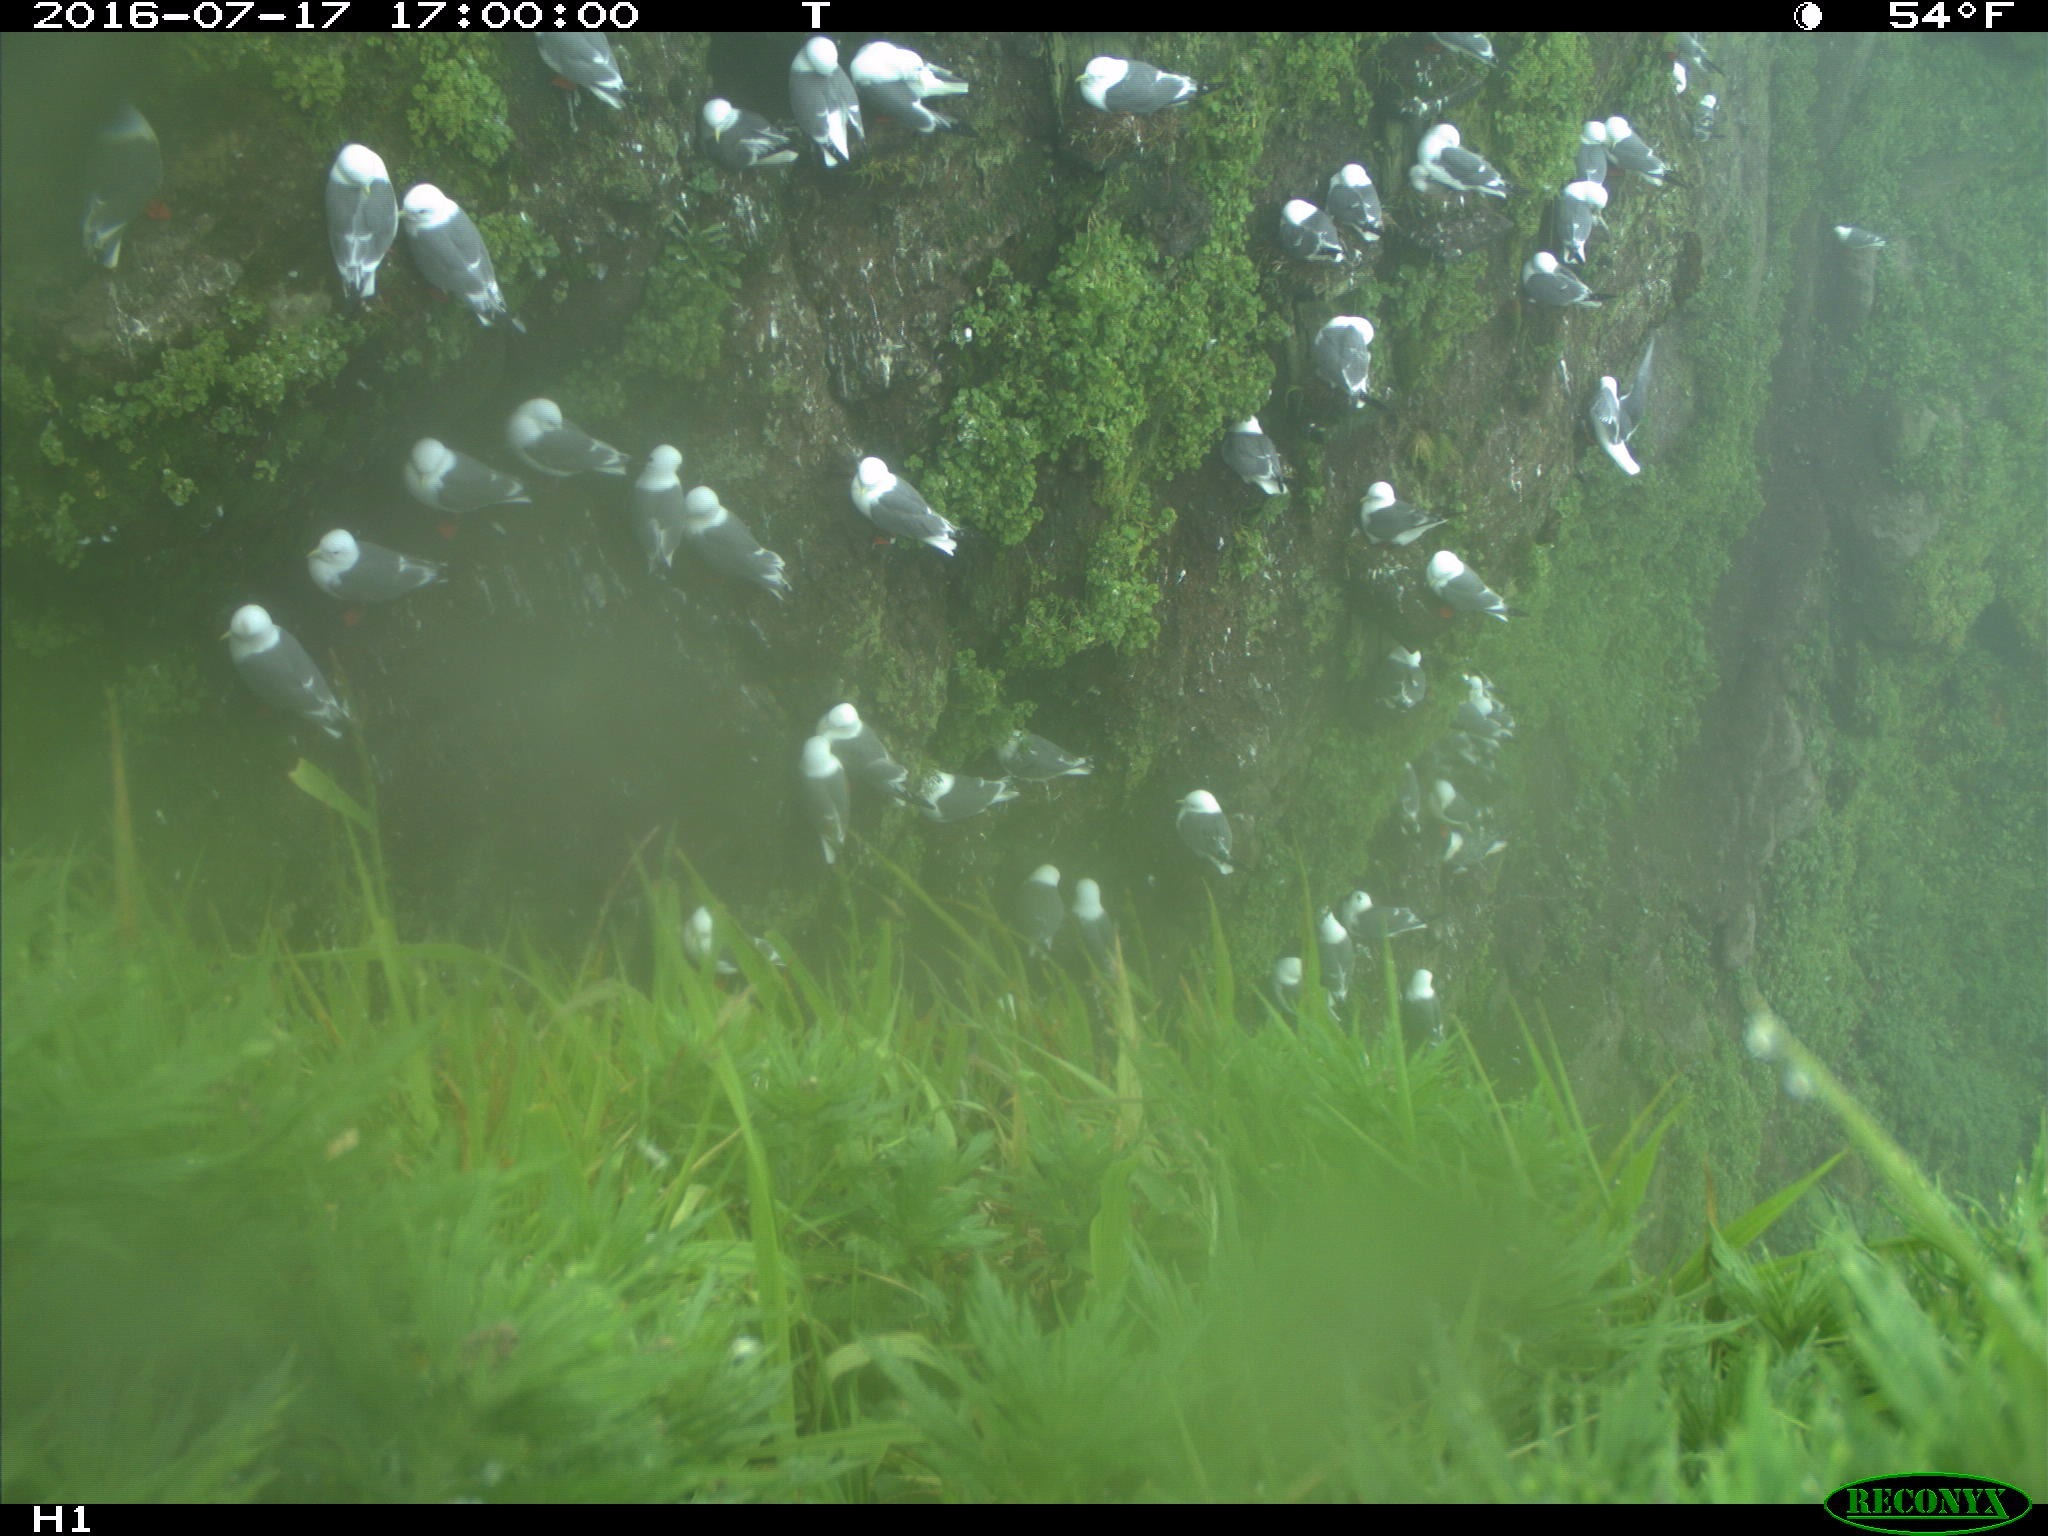Kittiwake: (197, 591, 381, 752), (490, 368, 653, 507), (379, 421, 564, 537), (827, 442, 989, 574), (768, 34, 906, 187), (268, 136, 397, 300), (405, 166, 527, 337), (664, 61, 821, 186), (672, 471, 819, 600), (276, 518, 477, 610), (1559, 344, 1688, 482), (851, 32, 998, 139), (1064, 44, 1219, 142), (676, 887, 822, 991), (785, 733, 872, 894), (1300, 297, 1411, 423), (810, 691, 935, 802), (497, 27, 639, 126), (1218, 387, 1313, 532), (629, 418, 706, 594), (1237, 929, 1351, 1047), (1335, 461, 1471, 557), (1414, 103, 1511, 227), (990, 708, 1113, 800), (1159, 771, 1256, 887), (1411, 545, 1542, 629), (1493, 234, 1629, 315), (1335, 634, 1447, 728), (1314, 134, 1405, 247), (1011, 845, 1089, 975), (1432, 662, 1538, 755), (1321, 858, 1424, 952), (1598, 92, 1692, 194), (906, 758, 1042, 828), (1538, 169, 1635, 263), (1817, 208, 1934, 286), (1656, 24, 1743, 123), (1058, 863, 1126, 987), (1405, 18, 1529, 81), (1269, 173, 1347, 273), (1405, 753, 1509, 824), (1392, 954, 1471, 1041), (1371, 755, 1442, 850), (1432, 824, 1530, 891), (1301, 904, 1377, 987), (1556, 108, 1642, 181)
